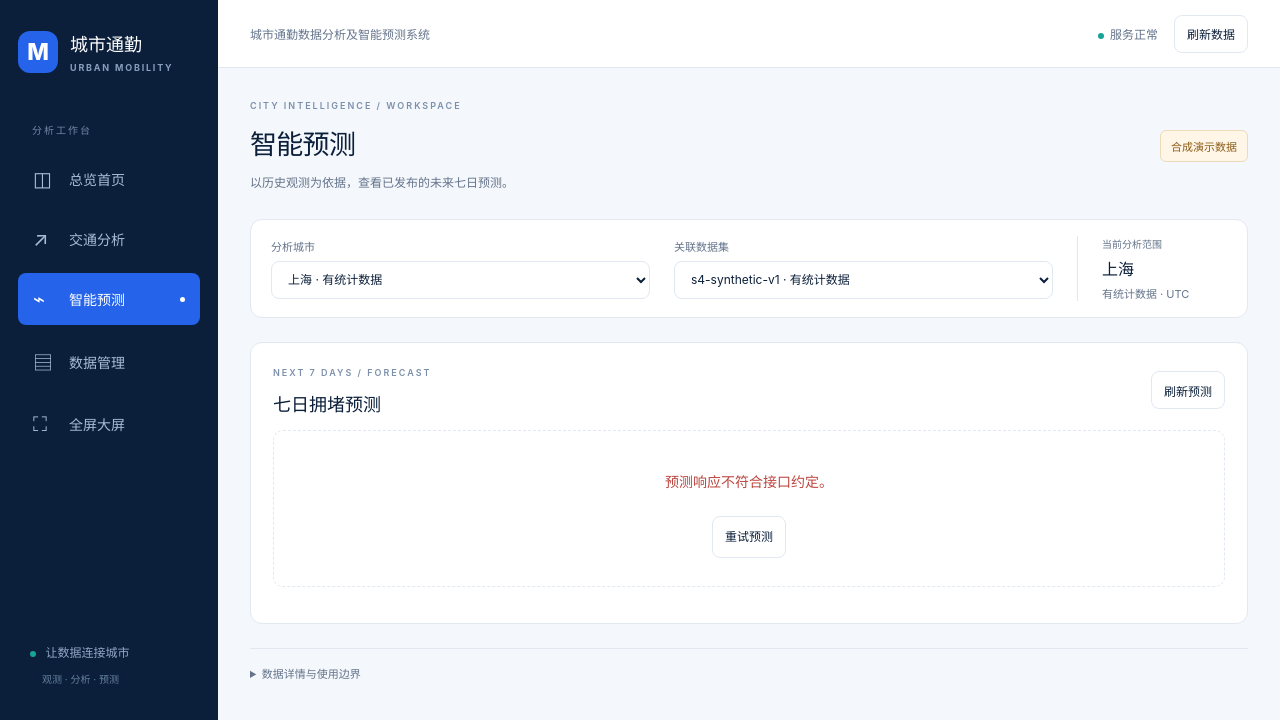
Test: workbench navigation and real metadata association › uses hash navigation, provides management only on entry, supports deep links
Check: the heading "智能预测" is shown, box [250, 128, 355, 161]
Click the button "▤ 数据管理" at (109, 362), box [18, 333, 200, 390]
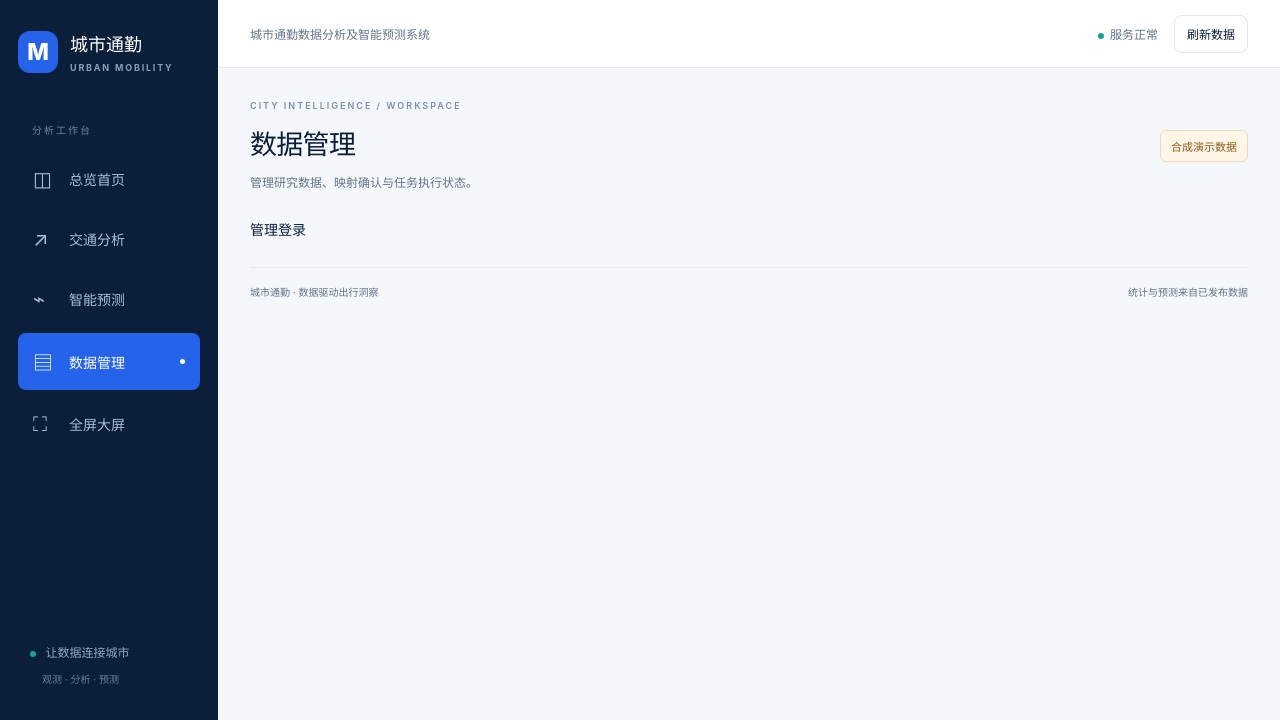
Check: the text "管理登录" is shown, box [250, 221, 306, 238]
